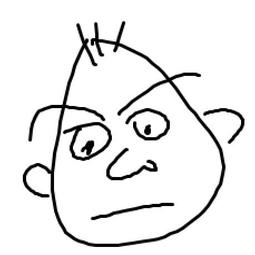ear: (200, 108, 248, 147), (16, 161, 57, 201)
eye: (68, 121, 114, 163), (126, 108, 171, 147)
eyebrow: (23, 103, 106, 142)
frowning_eyebrow: (115, 68, 203, 114)
line_unsmiling_mouth: (88, 199, 176, 223)
nose: (104, 147, 158, 181)
